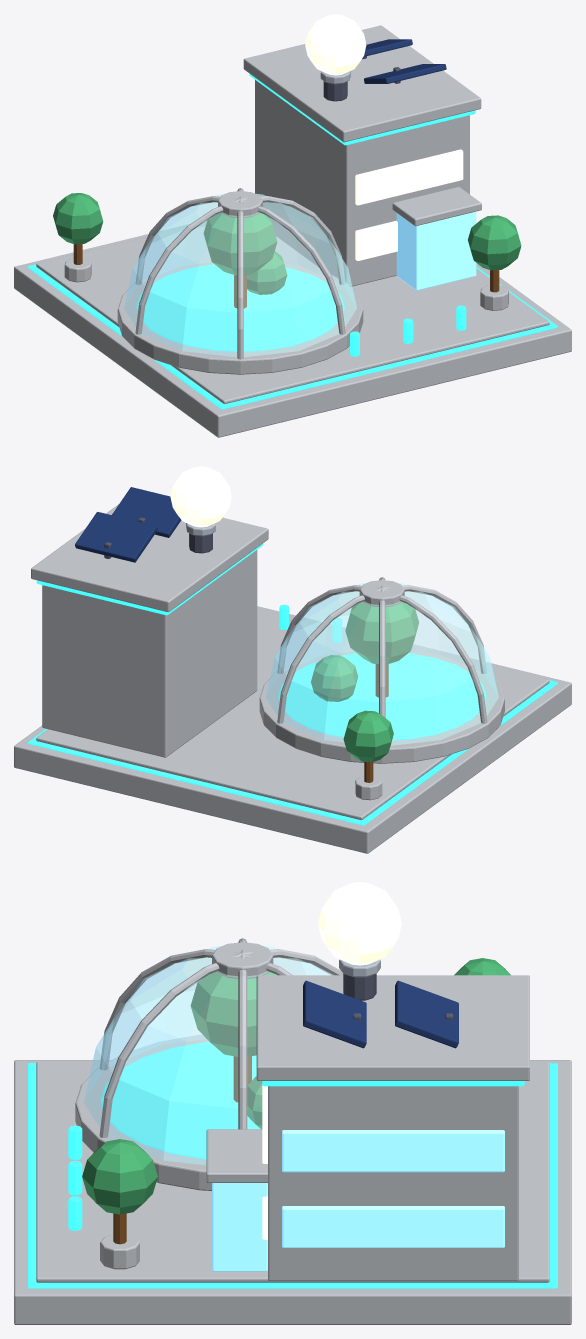
The model's file is campus.glb.
3 views of the same model, one above another, from view 1: azimuth 30°, elevation 25°; view 2: azimuth 150°, elevation 25°; view 3: azimuth 270°, elevation 25° (orthographic). The views are drawn at different scales.
Visible parts, largest first — view 1: Campus; view 2: Campus; view 3: Campus.
Part boxes in pixels (x1,y1,x2,y2): Campus: (14,14,571,437); Campus: (14,466,571,853); Campus: (14,882,571,1324).
Size of the model in its own units: 2 by 1.45 by 2.
